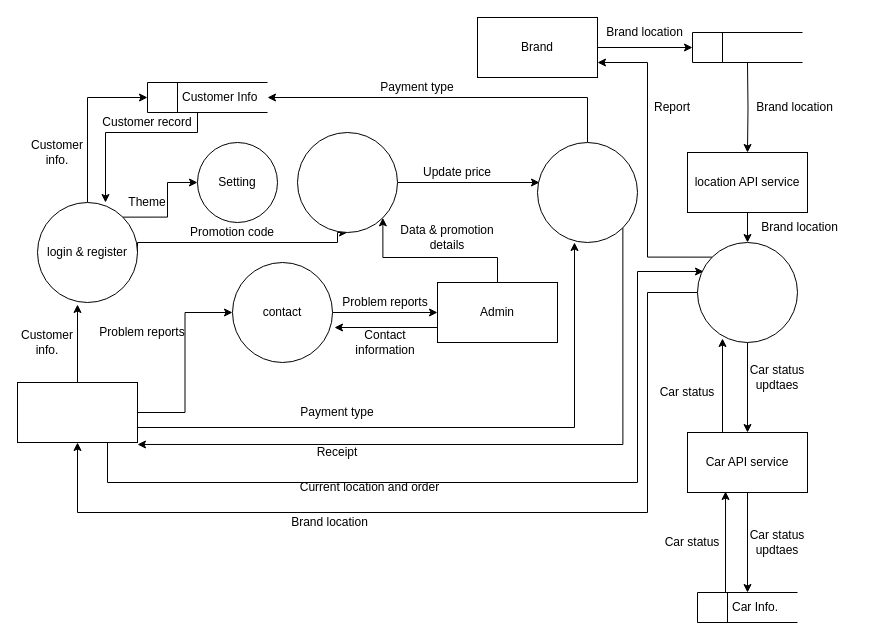
Some shapes in this 870 by 640 pixel diagram are drawn without their labels. The centre of each missing label's shape, as x and y in pixels:
Brand Info.: pixel 747 47
Car rental: pixel 747 292
Payment: pixel 587 192
Promotion: pixel 347 182
User: pixel 77 412
